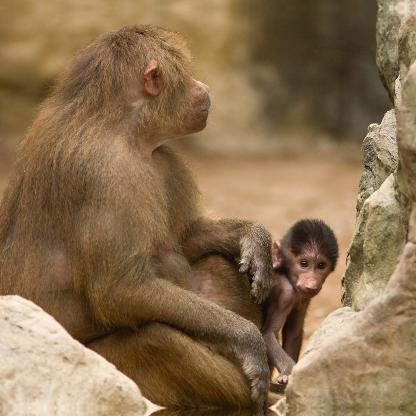Monkey: (11, 21, 305, 407), (250, 212, 338, 388)
